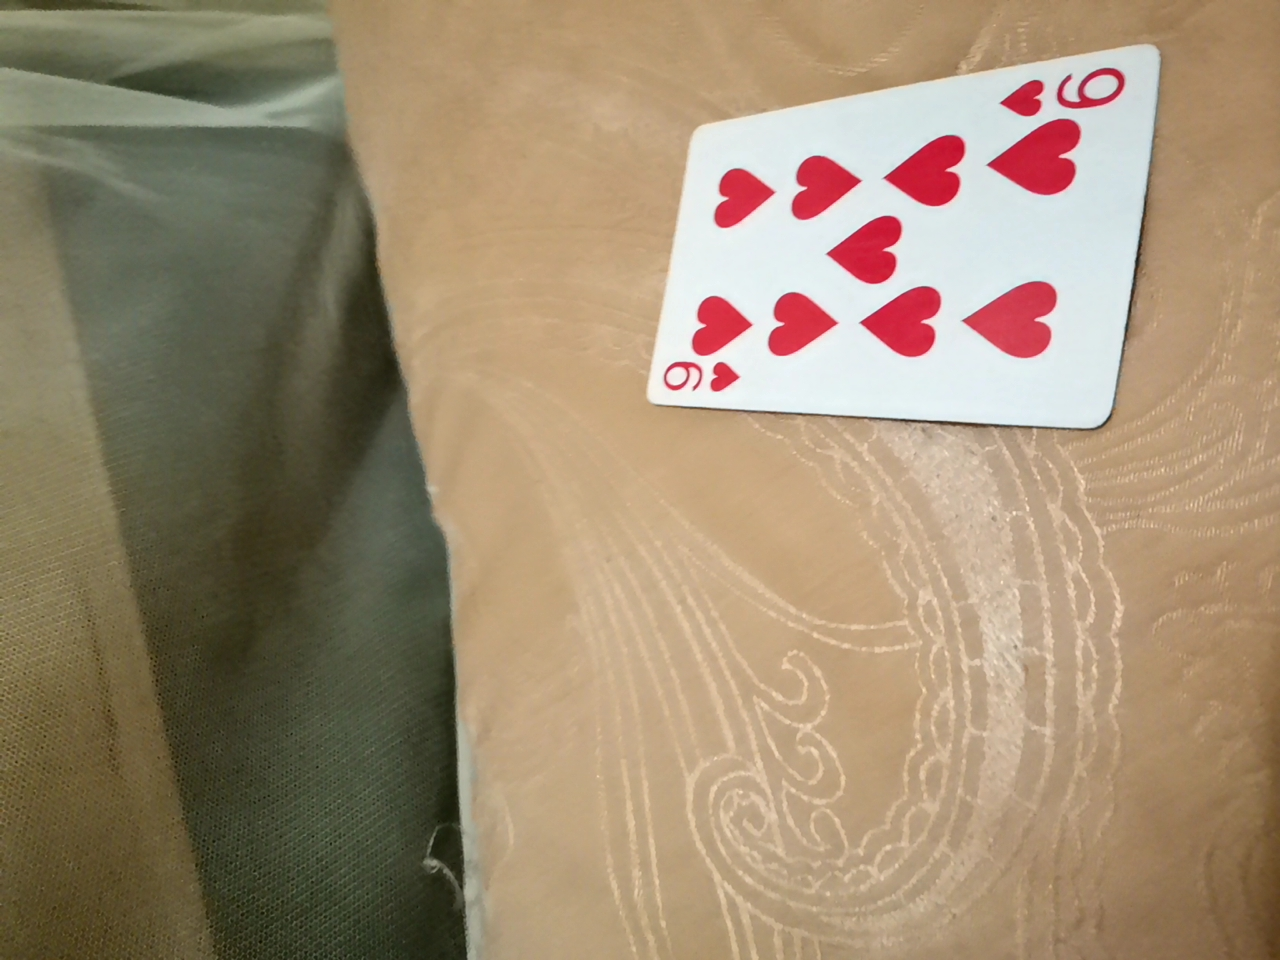hx 9: (619, 55, 1109, 443)
